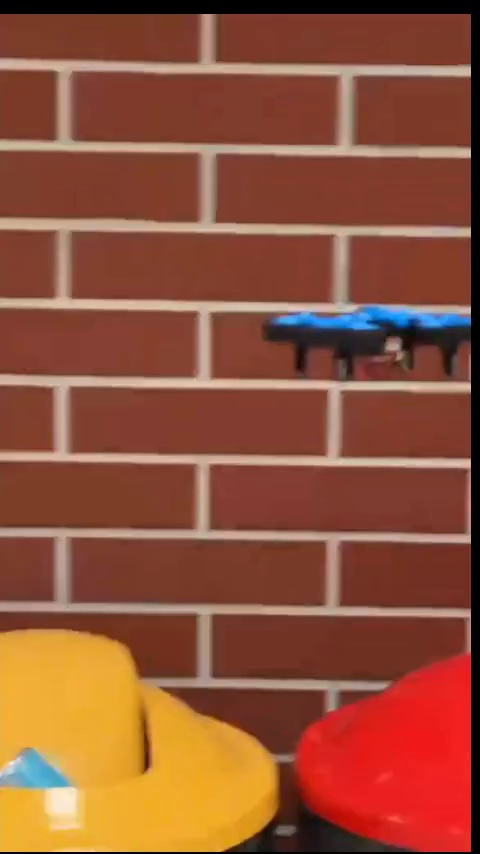drone: (263, 304, 474, 376)
